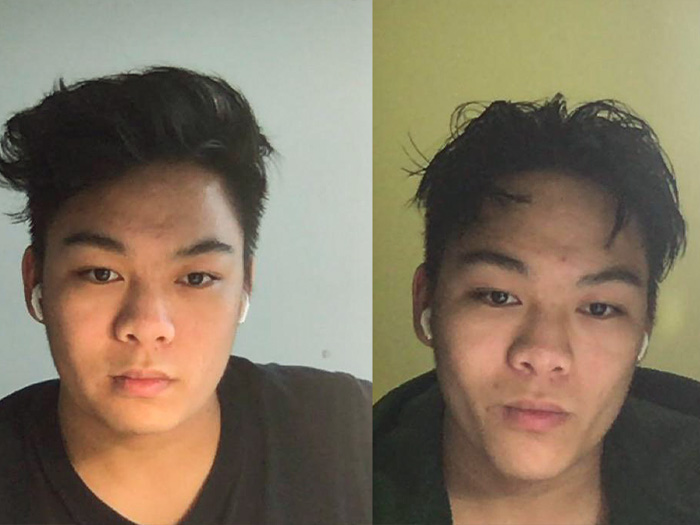mewing: (425, 161, 658, 483)
